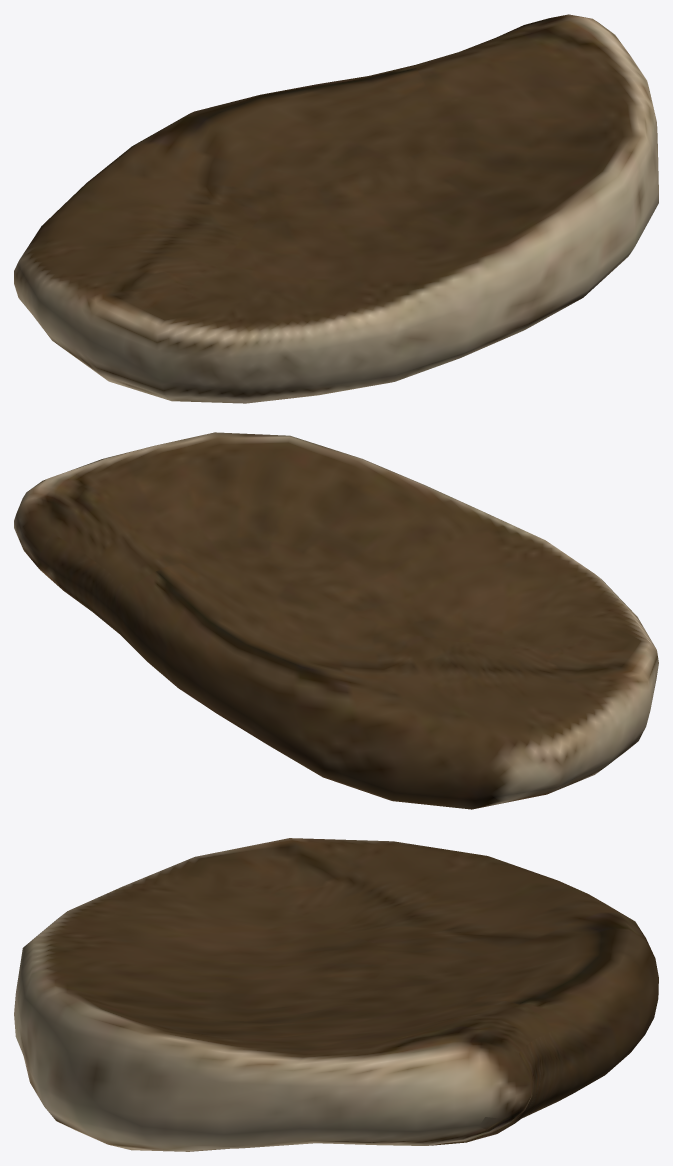
File: Third_Tarsal.glb
3 renders of one model, top to bottom at view 1: azimuth 30°, elevation 25°; view 2: azimuth 150°, elevation 25°; view 3: azimuth 270°, elevation 25°, orthographic. The views are drawn at different scales.
Visible parts, largest first — view 1: L_Bck_Third_Tarsal; view 2: L_Bck_Third_Tarsal; view 3: L_Bck_Third_Tarsal.
Part boxes in pixels (x1,y1,x2,y2): L_Bck_Third_Tarsal: [14, 14, 658, 403]; L_Bck_Third_Tarsal: [14, 432, 658, 809]; L_Bck_Third_Tarsal: [14, 838, 658, 1151].
Size of the model in its own units: 0.042 by 0.0136 by 0.0308.
Materials: 1 (1 with a texture image).
